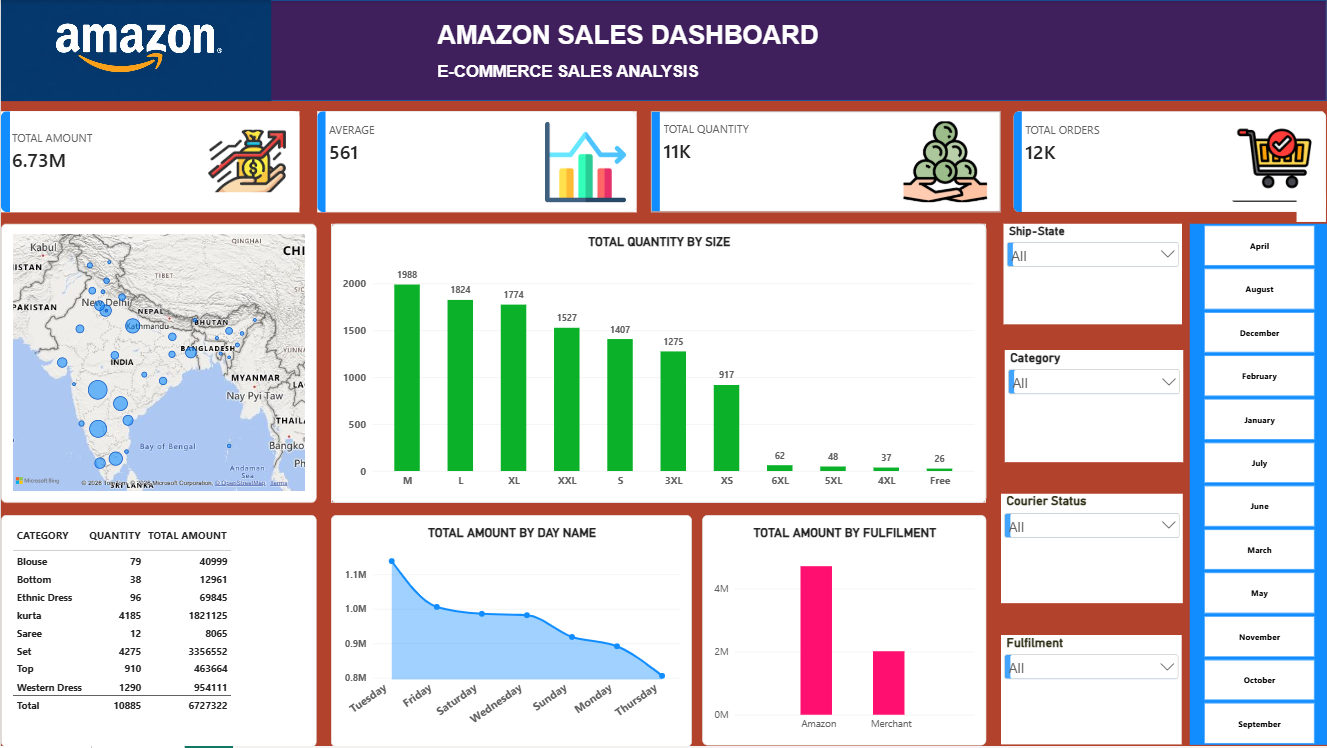

What the dashboard file says about the page in this screenshot:
{"tool":"powerbi","page":{"name":"SALES","canvas":[1920,1080],"ordinal":1},"visuals":[{"type":"shape","box":[0,0,1920.4,146.1],"z":0},{"type":"image","box":[0,0,391.1,146.1],"z":1000},{"type":"textbox","box":[632.1,28.3,628.3,152.8],"z":2000},{"type":"cardVisual","fields":{"Data":["Amazon_Ecommerce_Project.TOTAL_REVENUE"]},"box":[0,160.5,432,146],"z":3000},{"type":"cardVisual","fields":{"Data":["Amazon_Ecommerce_Project.Total Quantity"]},"box":[940.7,160.5,506,146],"z":4000},{"type":"cardVisual","fields":{"Data":["Amazon_Ecommerce_Project.AVERAGE"]},"box":[456.9,160.5,462,146],"z":5000},{"type":"cardVisual","fields":{"Data":["Amazon_Ecommerce_Project.Total Orders"]},"box":[1465.5,160.5,454,146],"z":6000},{"type":"slicer","fields":{"Values":["Amazon_Ecommerce_Project.Month"]},"box":[1720.8,324.5,200,754.7],"z":11000},{"type":"slicer","fields":{"Values":["Amazon_Ecommerce_Project.Ship-State"]},"box":[1450.9,324.5,258.5,145.3],"z":12000},{"type":"slicer","fields":{"Values":["Amazon_Ecommerce_Project.Category"]},"box":[1452.8,507.5,258.5,162.3],"z":13000},{"type":"slicer","fields":{"Values":["Amazon_Ecommerce_Project.Courier Status"]},"box":[1447.2,715.1,263.5,158.5],"z":14000},{"type":"tableEx","fields":{"Values":["Amazon_Ecommerce_Project.Category","Sum(Amazon_Ecommerce_Project.Qty)","Sum(Amazon_Ecommerce_Project.Revenue_Amount)"]},"box":[0,745.3,456.6,335.8],"z":14001},{"type":"lineChart","title":" TOTAL AMOUNT BY DAY NAME","fields":{"Category":["Amazon_Ecommerce_Project.Day Name"],"Y":["Sum(Amazon_Ecommerce_Project.Revenue_Amount)"]},"box":[477.4,745.3,522.6,335.8],"z":14003},{"type":"slicer","fields":{"Values":["Amazon_Ecommerce_Project.Fulfilment"]},"box":[1447,920.1,261.4,158.5],"z":14004},{"type":"map","fields":{"Category":["Amazon_Ecommerce_Project.Ship-State"],"Size":["Sum(Amazon_Ecommerce_Project.Revenue_Amount)"]},"box":[0,324.5,456.6,403.8],"z":14005},{"type":"clusteredColumnChart","title":" TOTAL QUANTITY BY SIZE","fields":{"Category":["Amazon_Ecommerce_Project.Size"],"Y":["Sum(Amazon_Ecommerce_Project.Qty)"]},"box":[477.4,324.5,949.1,403.8],"z":14006},{"type":"columnChart","title":"TOTAL AMOUNT BY FULFILMENT","fields":{"Category":["Amazon_Ecommerce_Project.Fulfilment"],"Y":["Sum(Amazon_Ecommerce_Project.Revenue_Amount)"]},"box":[1015.1,745.3,411.3,334],"z":14007}]}

Visuals, with their boxes in screenshot pixels (x1, y1, x2, y2), scaled from the page's 1920x1080 canvas onto the 1327x748 screenshot:
shape: bbox=(0, 0, 1326, 101)
image: bbox=(0, 0, 270, 101)
textbox: bbox=(437, 20, 871, 125)
cardVisual - Amazon_Ecommerce_Project.TOTAL_REVENUE: bbox=(0, 111, 299, 212)
cardVisual - Amazon_Ecommerce_Project.Total Quantity: bbox=(650, 111, 1000, 212)
cardVisual - Amazon_Ecommerce_Project.AVERAGE: bbox=(316, 111, 635, 212)
cardVisual - Amazon_Ecommerce_Project.Total Orders: bbox=(1013, 111, 1326, 212)
slicer - Amazon_Ecommerce_Project.Month: bbox=(1189, 225, 1326, 747)
slicer - Amazon_Ecommerce_Project.Ship-State: bbox=(1003, 225, 1181, 325)
slicer - Amazon_Ecommerce_Project.Category: bbox=(1004, 351, 1183, 464)
slicer - Amazon_Ecommerce_Project.Courier Status: bbox=(1000, 495, 1182, 605)
tableEx - Amazon_Ecommerce_Project.Category x Sum(Amazon_Ecommerce_Project.Qty): bbox=(0, 516, 316, 747)
" TOTAL AMOUNT BY DAY NAME" lineChart: bbox=(330, 516, 691, 747)
slicer - Amazon_Ecommerce_Project.Fulfilment: bbox=(1000, 637, 1181, 747)
map - Amazon_Ecommerce_Project.Ship-State x Sum(Amazon_Ecommerce_Project.Revenue_Amount): bbox=(0, 225, 316, 504)
" TOTAL QUANTITY BY SIZE" clusteredColumnChart: bbox=(330, 225, 986, 504)
"TOTAL AMOUNT BY FULFILMENT" columnChart: bbox=(702, 516, 986, 747)
